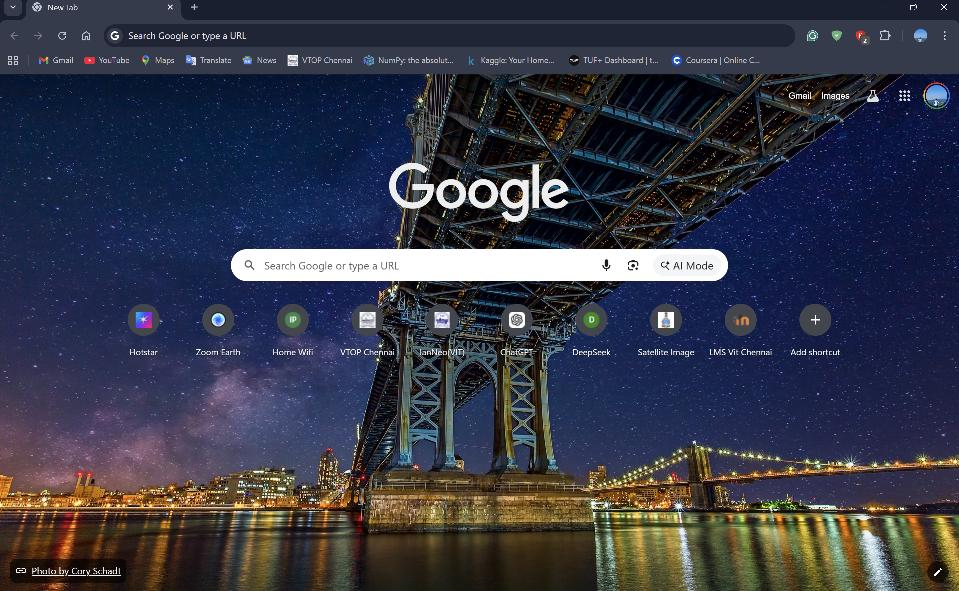close_button: (937, 1, 959, 20)
maximize_button: (903, 1, 928, 20)
minimize_button: (872, 1, 894, 19)
